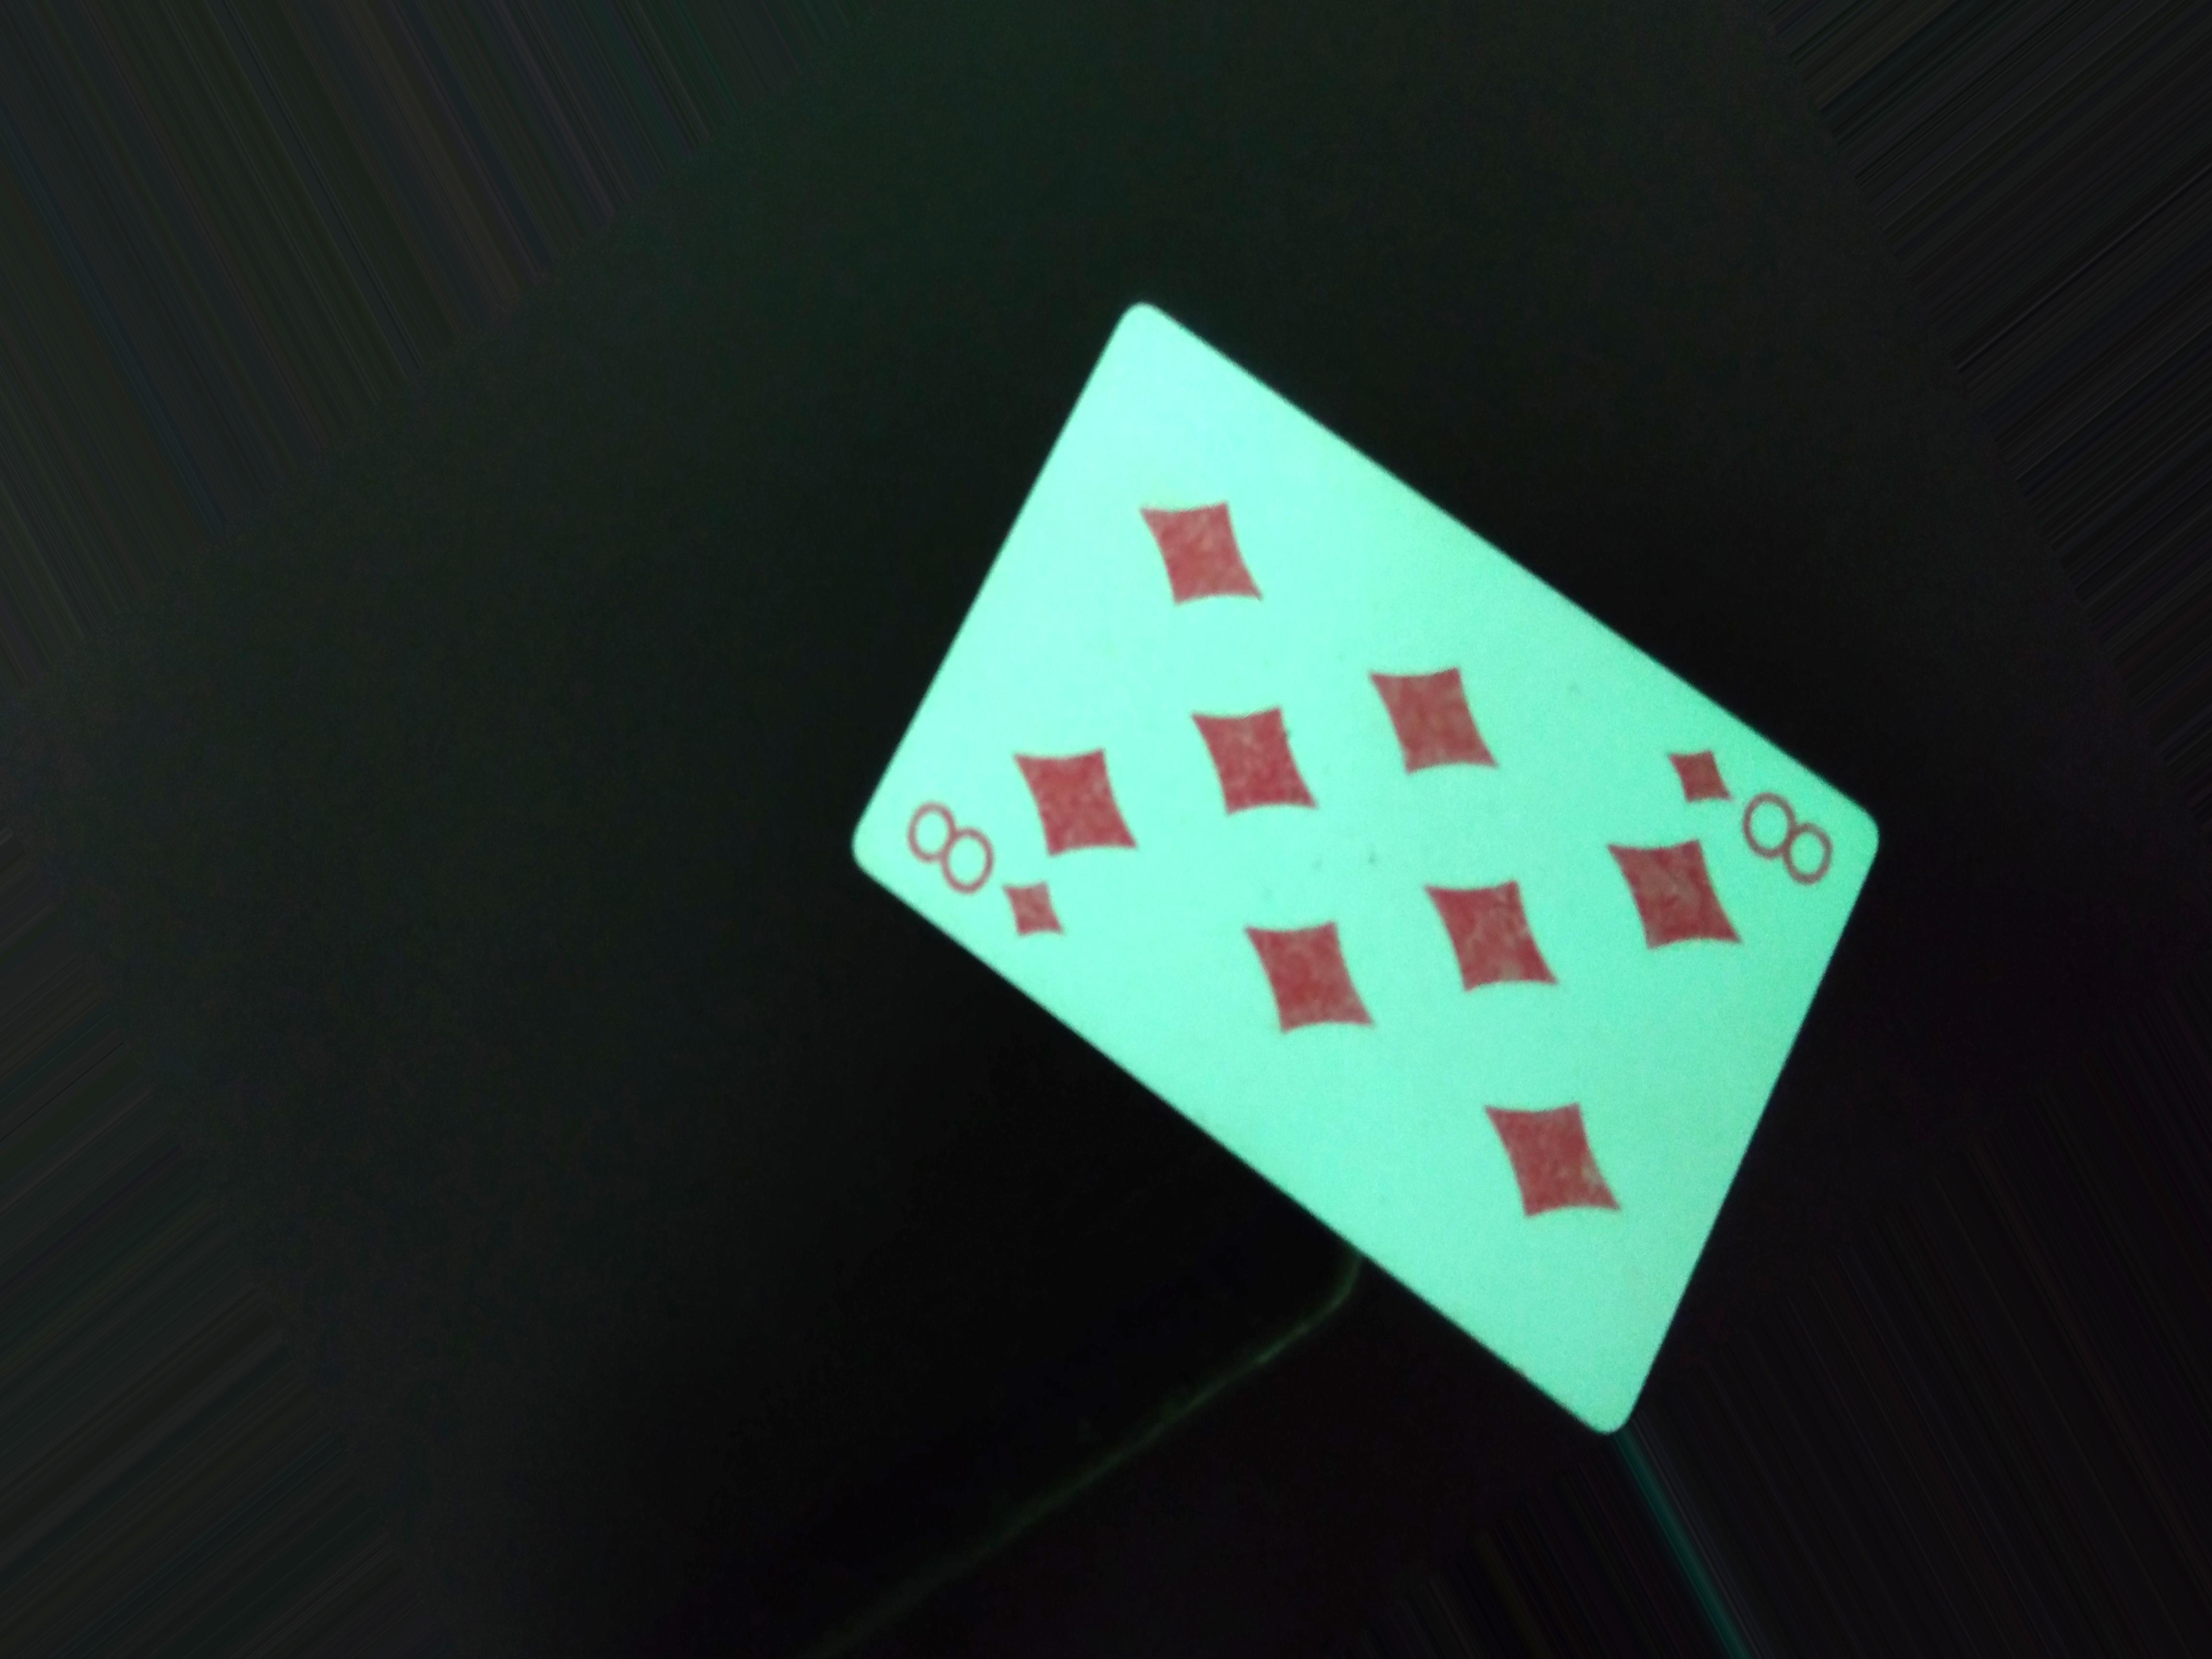8D: (1634, 716, 1850, 918)
